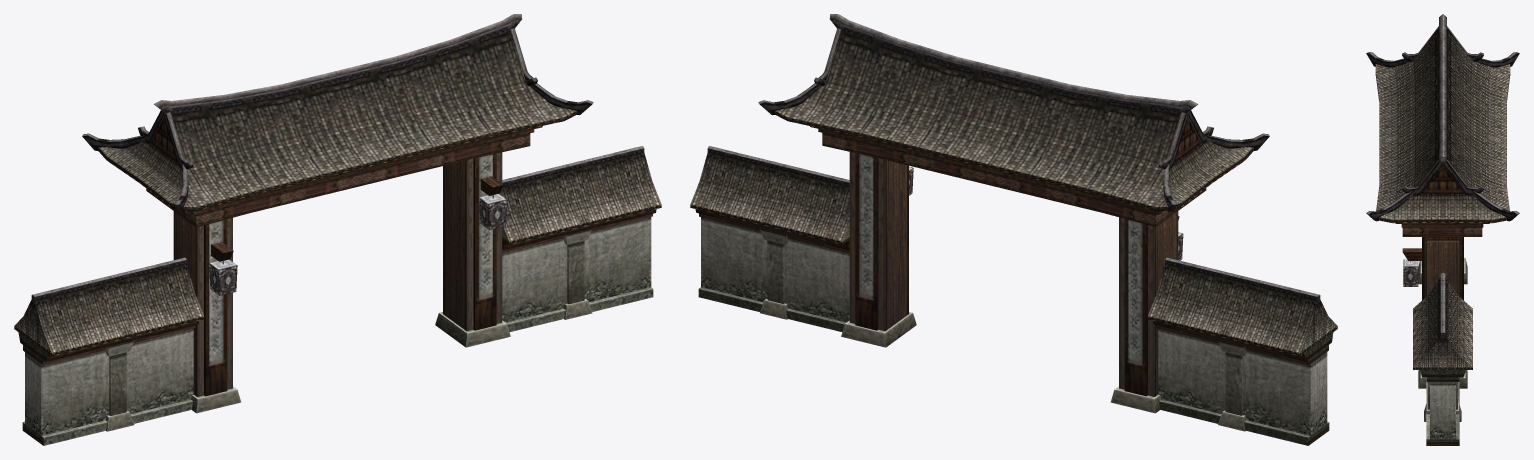
Rendered from b1-038-wall-door.glb.
3 views of the same model, side by side, from view 1: azimuth 30°, elevation 25°; view 2: azimuth 150°, elevation 25°; view 3: azimuth 270°, elevation 25° (orthographic). The views are drawn at different scales.
Visible parts, largest first — view 1: b1-038-wall; view 2: b1-038-wall; view 3: b1-038-wall.
Part boxes in pixels (x1,y1,x2,y2): b1-038-wall: [14, 14, 661, 445]; b1-038-wall: [690, 14, 1337, 445]; b1-038-wall: [1366, 14, 1519, 445].
Bounding box in the file's own units: 20 × 9.62 × 5.49.
1 material, 1 textured.
